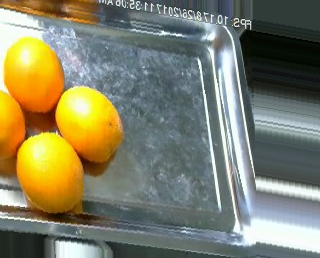Orange: (15, 131, 84, 214), (55, 84, 122, 164), (3, 36, 65, 113)
